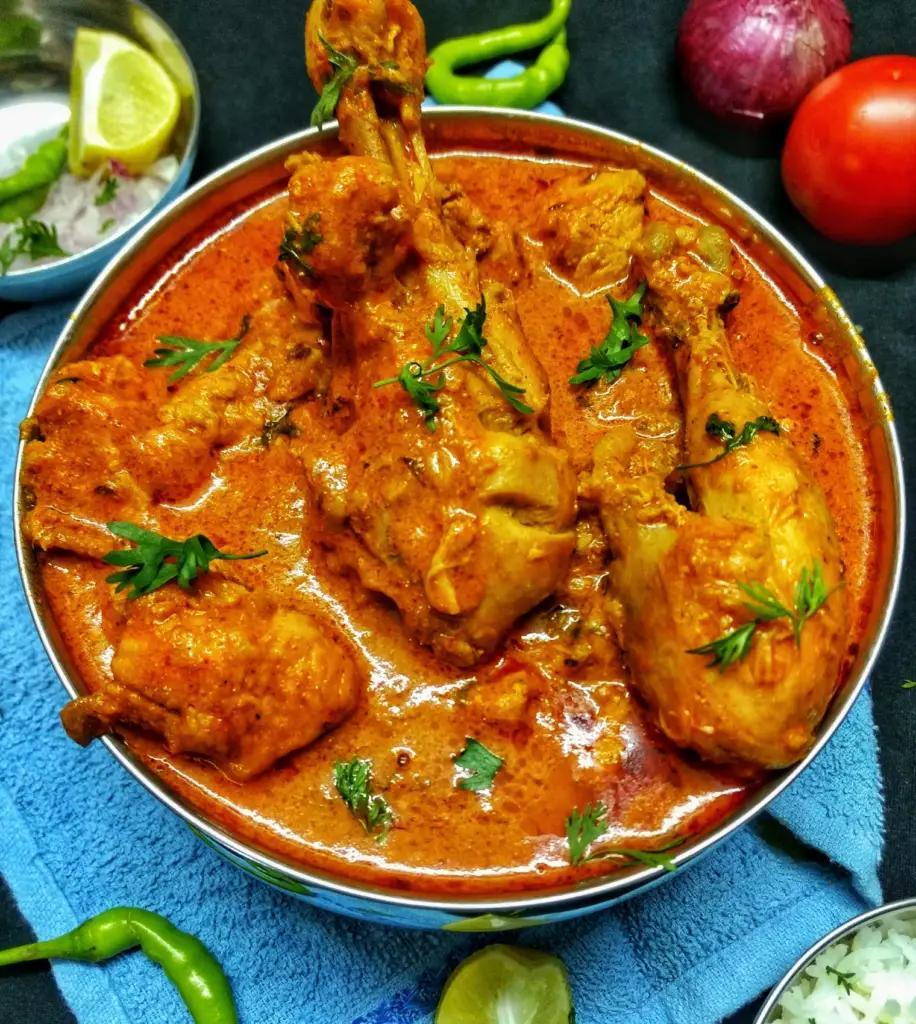chicken: (98, 126, 852, 890)
